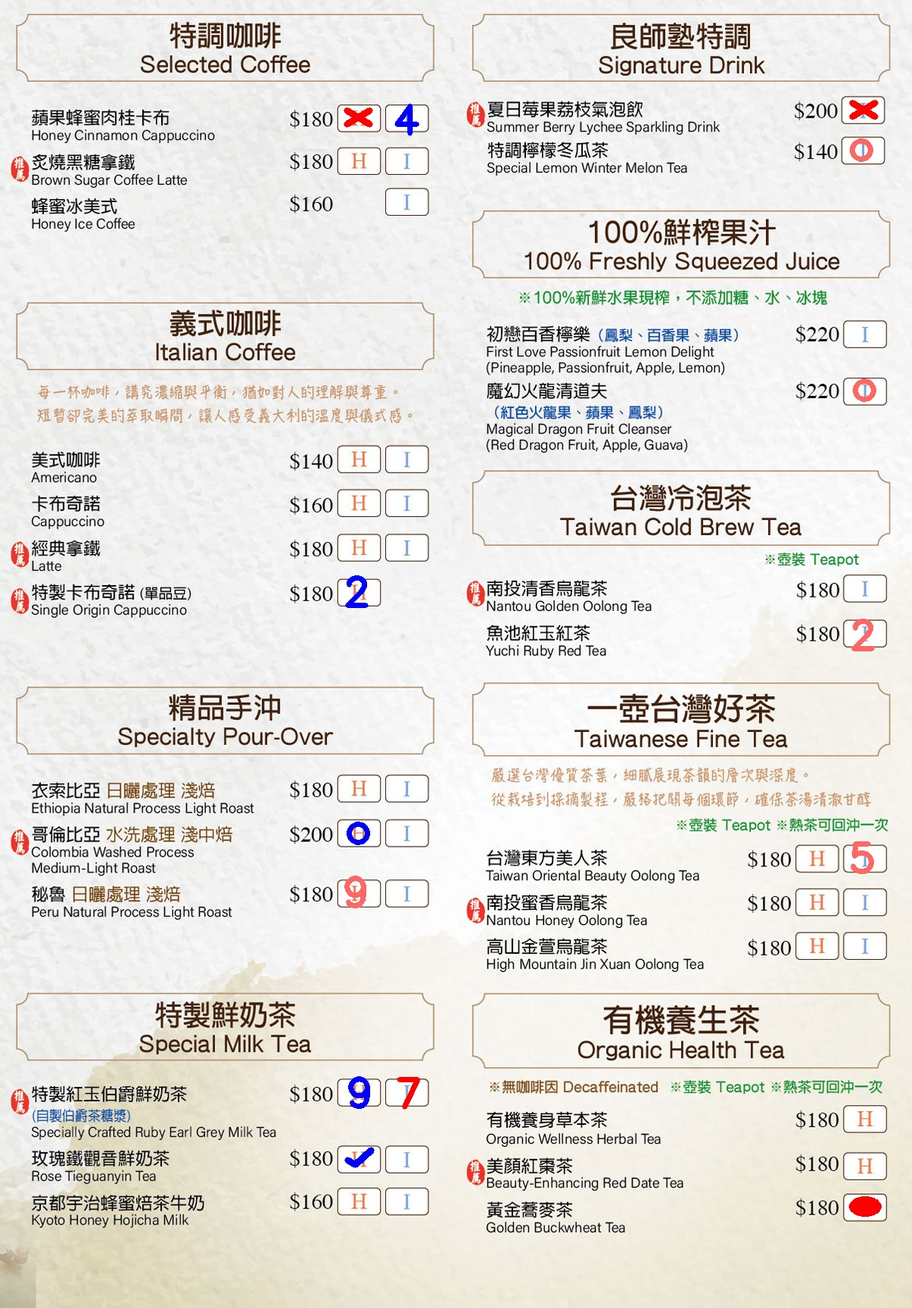marked_circle: (845, 1194, 884, 1218)
marked_hollow: (845, 378, 884, 402), (842, 138, 881, 162), (339, 822, 378, 845)
marked_number_2: (339, 579, 378, 603), (845, 622, 884, 646)
marked_number_4: (388, 107, 427, 131)
marked_number_5: (844, 845, 883, 869)
marked_number_7: (391, 1081, 429, 1104)
marked_number_9: (342, 1080, 381, 1104), (338, 879, 377, 903)
marked_tick: (340, 1146, 379, 1170)
marked_x: (844, 98, 883, 122), (339, 106, 378, 129)
